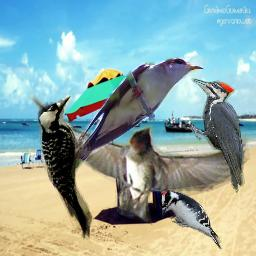Cuckoo: (52, 57, 204, 188)
Swallow: (28, 93, 251, 227)
Woodpecker: (31, 91, 104, 250), (185, 78, 248, 193), (158, 189, 223, 251)
